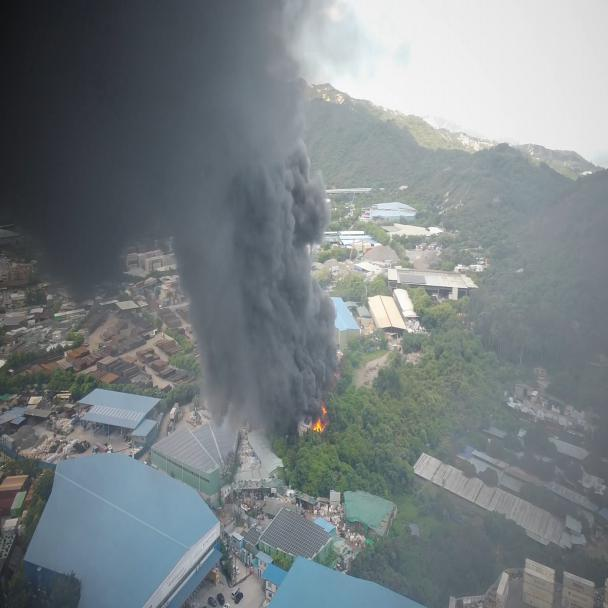fire: (313, 423, 326, 436)
smoke: (0, 0, 333, 244), (174, 244, 334, 422), (28, 245, 127, 308)
